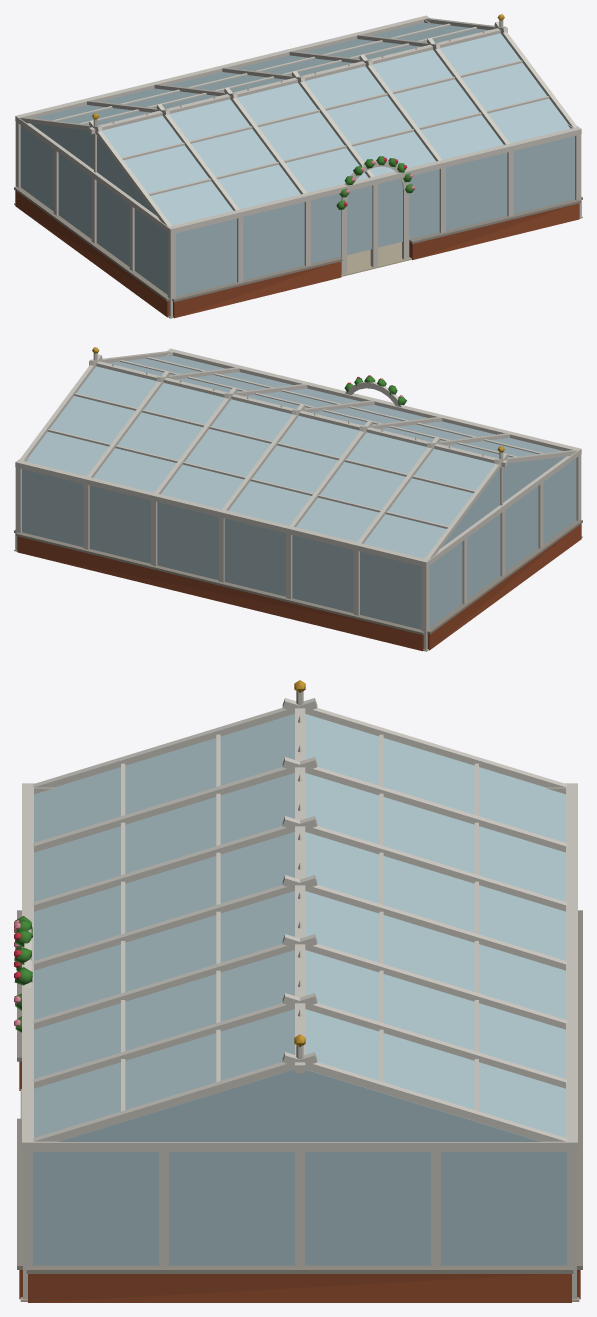
Rendered from greenhouse.glb.
3 renders of one model, top to bottom at view 1: azimuth 30°, elevation 25°; view 2: azimuth 150°, elevation 25°; view 3: azimuth 270°, elevation 25°, orthographic. The views are drawn at different scales.
Visible parts, largest first — view 1: building-greenhouse-glass, building-greenhouse; view 2: building-greenhouse-glass, building-greenhouse; view 3: building-greenhouse-glass, building-greenhouse.
Boxes of the visible parts, <box> form: building-greenhouse-glass: <box>20,22,574,296</box>; building-greenhouse: <box>14,14,582,318</box>; building-greenhouse-glass: <box>22,355,576,629</box>; building-greenhouse: <box>14,347,582,651</box>; building-greenhouse-glass: <box>33,714,566,1265</box>; building-greenhouse: <box>14,680,582,1302</box>.
Bounding box in the file's own units: 11.7 × 3.96 × 7.74.
